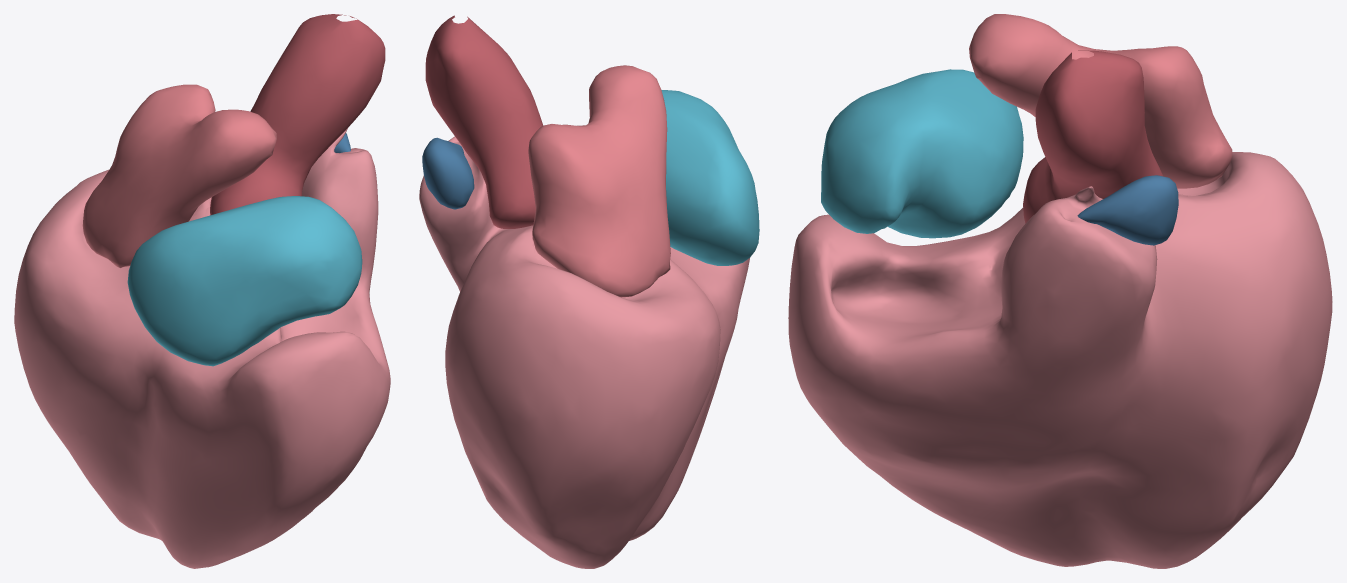
The model's file is frame_30.glb.
The picture shows the model from 3 angles, left to right: view 1: azimuth 30°, elevation 25°; view 2: azimuth 150°, elevation 25°; view 3: azimuth 270°, elevation 25°; orthographic projection. The views are drawn at different scales.
Parts seen in each view (by area): view 1: Renderer Node; view 2: Renderer Node; view 3: Renderer Node.
Part boxes in pixels (x1,y1,x2,y2): Renderer Node: [14, 14, 390, 568]; Renderer Node: [419, 15, 759, 568]; Renderer Node: [788, 14, 1332, 568].
Size of the model in its own units: 106 by 163 by 132.
